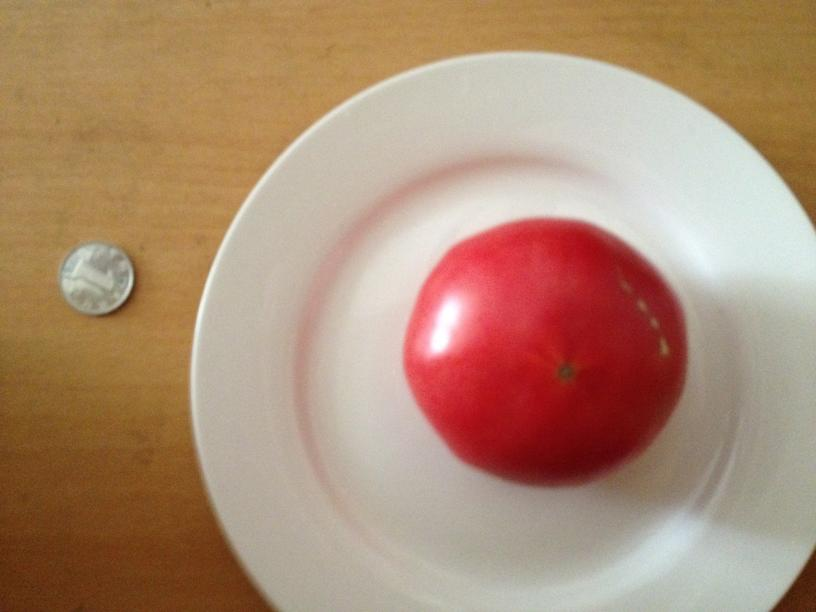coin: (54, 239, 135, 318)
tomato: (400, 214, 689, 494)
